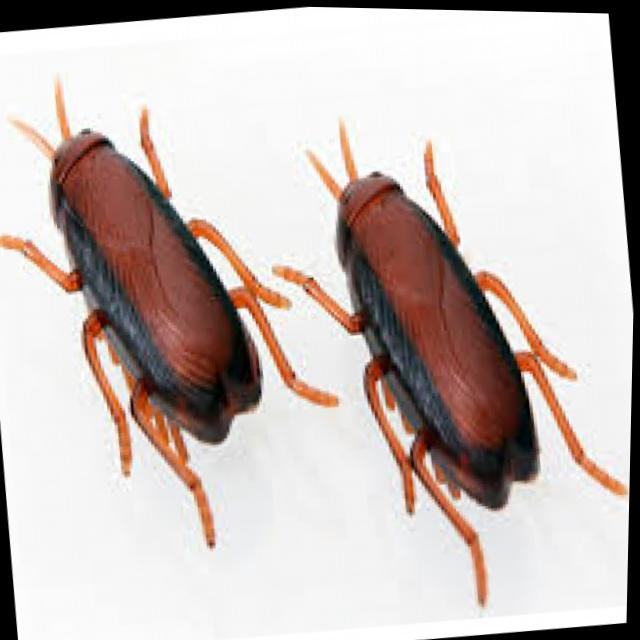Cockroach: (263, 93, 637, 601), (0, 30, 337, 552)
